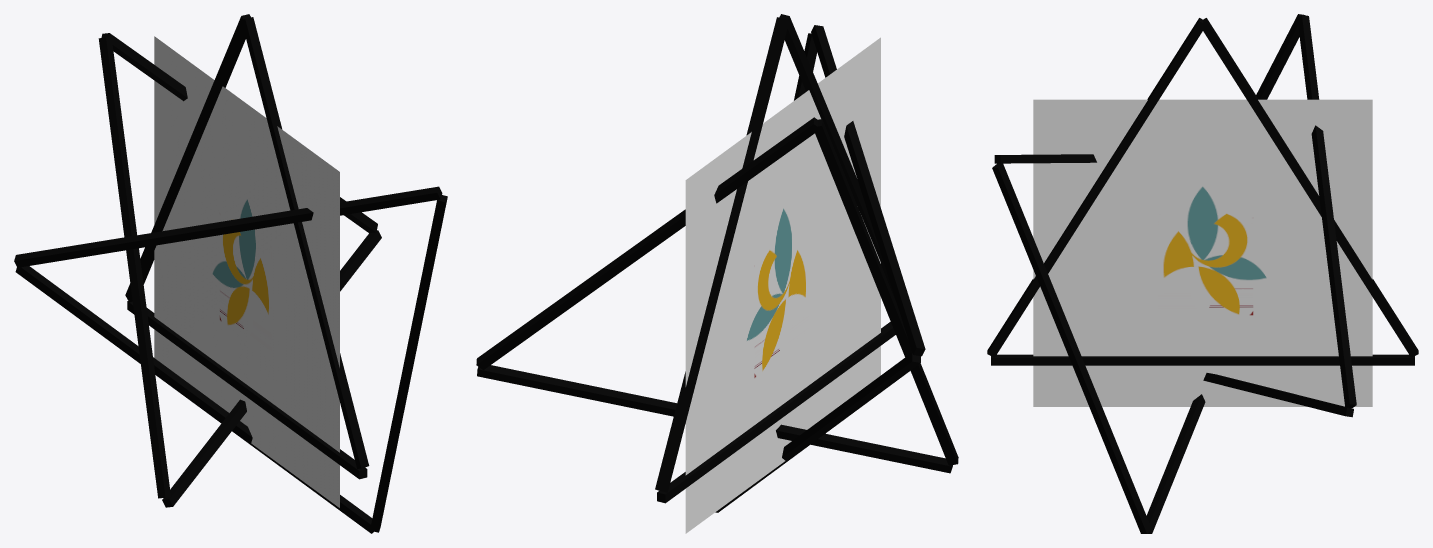
Rendered from lry.glb.
The picture shows the model from 3 angles, left to right: view 1: azimuth 30°, elevation 25°; view 2: azimuth 150°, elevation 25°; view 3: azimuth 270°, elevation 25°; orthographic projection. The views are drawn at different scales.
Parts seen in each view (by area): view 1: 平面, 立方体.006, 立方体.005, 立方体.002, 立方体.004, 立方体.003, 立方体.001, 立方体, 立方体.008, 立方体.007; view 2: 平面, 立方体.001, 立方体.007, 立方体.008, 立方体.006, 立方体.005, 立方体, 立方体.002, 立方体.004; view 3: 平面, 立方体.003, 立方体.007, 立方体, 立方体.002, 立方体.001, 立方体.004, 立方体.008, 立方体.006, 立方体.005.
Part boxes in pixels (left/top/right/bottom): 平面: left=154, top=36, right=339, bottom=507; 立方体.006: left=98, top=37, right=170, bottom=498; 立方体.005: left=14, top=186, right=442, bottom=267; 立方体.002: left=243, top=17, right=369, bottom=469; 立方体.004: left=15, top=266, right=375, bottom=533; 立方体.003: left=370, top=195, right=447, bottom=532; 立方体.001: left=125, top=14, right=250, bottom=302; 立方体: left=127, top=301, right=367, bottom=479; 立方体.008: left=162, top=230, right=381, bottom=507; 立方体.007: left=101, top=33, right=377, bottom=233; 平面: left=685, top=37, right=880, bottom=533; 立方体.001: left=655, top=17, right=789, bottom=492; 立方体.007: left=476, top=117, right=817, bottom=369; 立方体.008: left=477, top=365, right=952, bottom=473; 立方体.006: left=812, top=119, right=958, bottom=465; 立方体.005: left=811, top=25, right=925, bottom=356; 立方体: left=657, top=321, right=895, bottom=503; 立方体.002: left=779, top=14, right=896, bottom=303; 立方体.004: left=715, top=352, right=920, bottom=512; 平面: left=1033, top=99, right=1372, bottom=406; 立方体.003: left=992, top=163, right=1149, bottom=533; 立方体.007: left=1297, top=15, right=1356, bottom=408; 立方体: left=991, top=354, right=1414, bottom=365; 立方体.002: left=987, top=18, right=1205, bottom=357; 立方体.001: left=1199, top=18, right=1418, bottom=357; 立方体.004: left=1146, top=394, right=1205, bottom=533; 立方体.008: left=1203, top=373, right=1353, bottom=417; 立方体.006: left=1256, top=14, right=1304, bottom=99; 立方体.005: left=994, top=154, right=1096, bottom=163.
Size of the model in its own units: 4.94 by 6.15 by 5.09.
2 materials, 1 textured.
